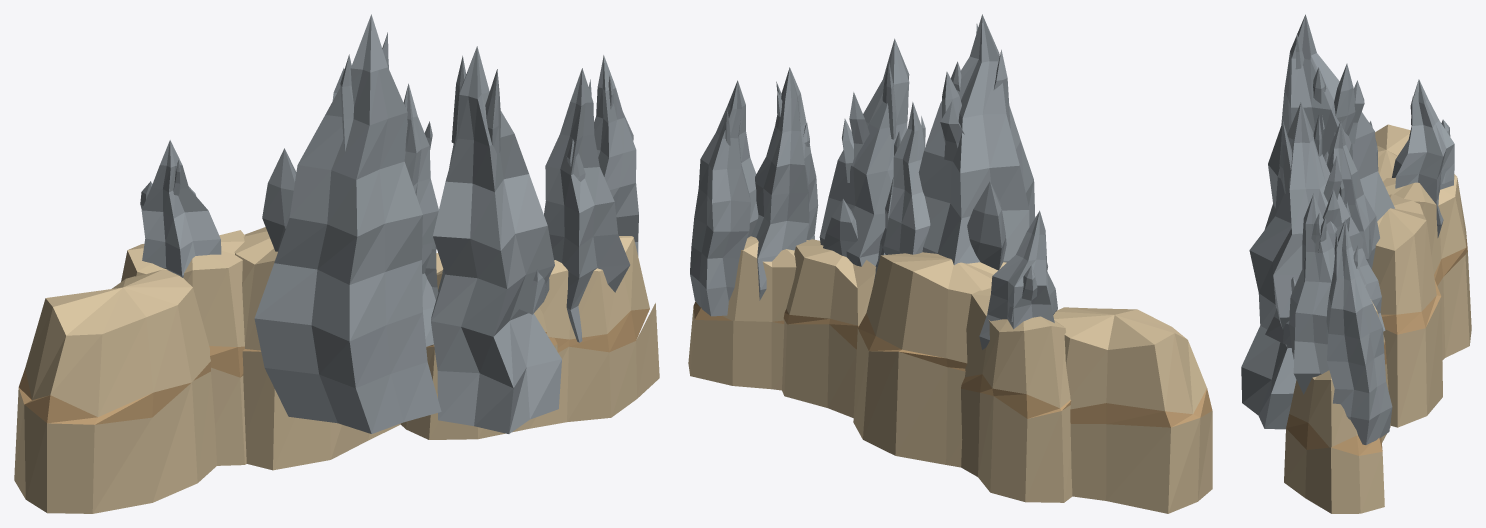
The model's file is dlr-batuu-spires.glb.
3 renders of one model, left to right at view 1: azimuth 30°, elevation 25°; view 2: azimuth 150°, elevation 25°; view 3: azimuth 270°, elevation 25°, orthographic. The views are drawn at different scales.
Parts seen in each view (by area): view 1: Black Spire Outpost spires; view 2: Black Spire Outpost spires; view 3: Black Spire Outpost spires.
Part boxes in pixels (x1=…): Black Spire Outpost spires: x1=14, y1=14, x2=659, y2=513; Black Spire Outpost spires: x1=688, y1=14, x2=1212, y2=513; Black Spire Outpost spires: x1=1241, y1=14, x2=1471, y2=513.
Bounding box in the file's own units: 57.46 × 41 × 22.77.
